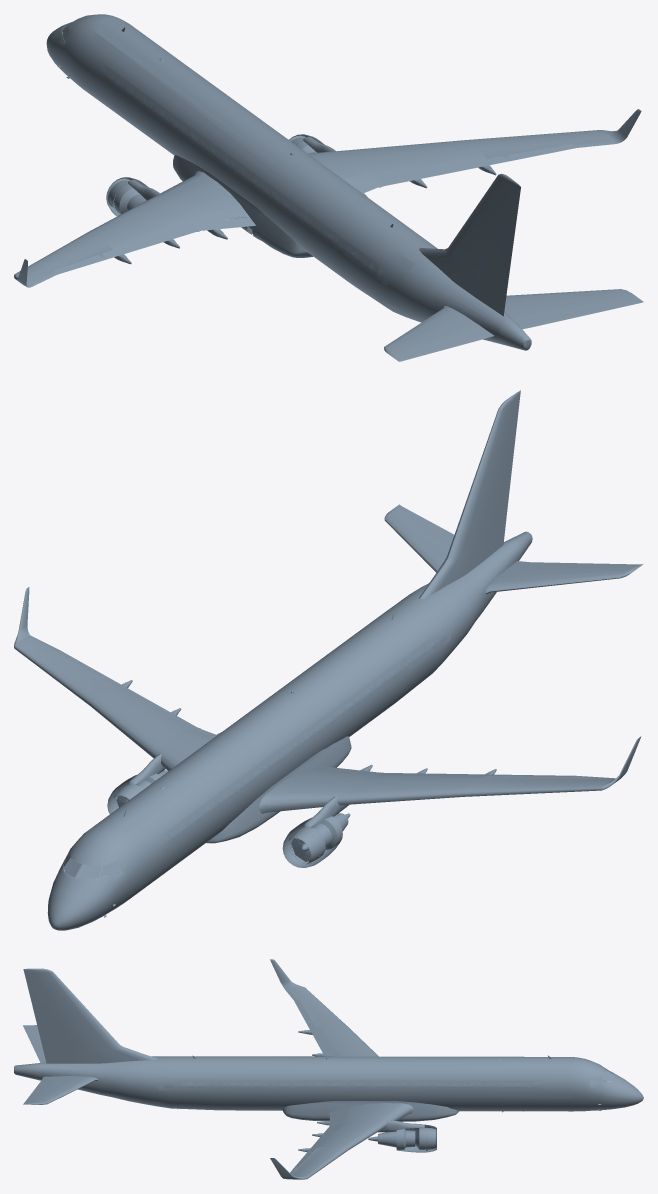
3 renders of one model, top to bottom at view 1: azimuth 30°, elevation 25°; view 2: azimuth 150°, elevation 25°; view 3: azimuth 270°, elevation 25°, orthographic. The views are drawn at different scales.
Bounding box in the file's own units: 28.2 × 10.22 × 37.83.
